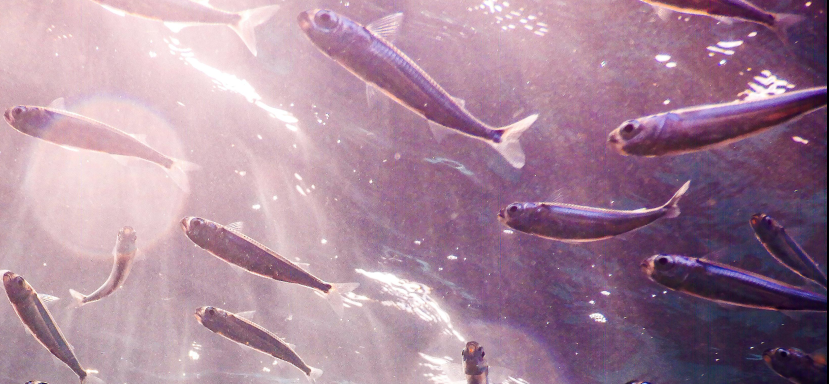fishSmall: (295, 7, 538, 170), (3, 97, 203, 196), (181, 215, 359, 313), (603, 84, 829, 159), (640, 246, 827, 320), (496, 178, 690, 244), (2, 270, 98, 384), (193, 305, 325, 382), (61, 222, 147, 312), (749, 212, 828, 287), (763, 341, 829, 383), (458, 337, 491, 383)
